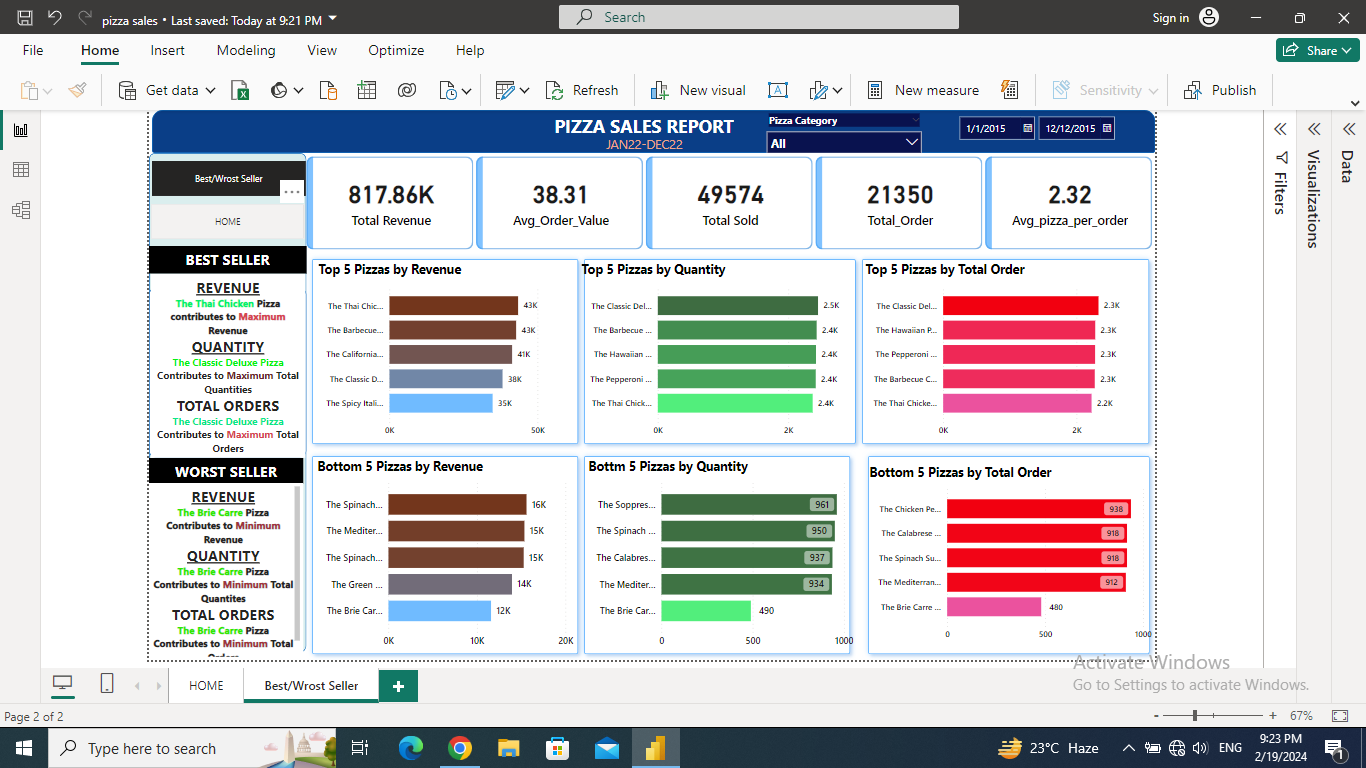

The page's visual inventory and layout, read from the dashboard file:
{"tool":"powerbi","page":{"name":"Best/Wrost Seller","canvas":[1500,820],"ordinal":1},"visuals":[{"type":"shape","box":[0,64,234.5,744.6],"z":0},{"type":"textbox","box":[0,518.2,229.6,37.7],"z":1000},{"type":"shape","box":[234.5,213.2,414.9,293.6],"z":2000},{"type":"cardVisual","fields":{"Data":["pizza_sales.Total Revenue","pizza_sales.Avg_Order_Value","pizza_sales.Total Sold","pizza_sales.Total_Order","pizza_sales.Avg_pizza_per_order"]},"box":[229,64,1271,149.2],"z":3000},{"type":"shape","box":[4.9,0,1495.7,64],"z":4000},{"type":"textbox","box":[582.2,0,310,50.8],"z":5000},{"type":"textbox","box":[649.4,32.8,177.1,42.6],"z":6000},{"type":"textbox","box":[0,203.4,234.5,41],"z":7000},{"type":"shape","box":[0,265.7,234.5,252.6],"z":8000},{"type":"textbox","box":[3.3,244.4,229.6,273.9],"z":9000},{"type":"textbox","box":[0,556,229.6,264],"z":10000},{"type":"slicer","fields":{"Values":["pizza_sales.pizza_category"]},"box":[910.2,0,250.9,64],"z":11000},{"type":"slicer","fields":{"Values":["pizza_sales.order_date"]},"box":[1195.6,0,262.4,64],"z":12000},{"type":"shape","box":[639.6,213.2,423.1,293.6],"z":13000},{"type":"shape","box":[1054.5,213.2,446.1,293.6],"z":14000},{"type":"shape","box":[639.6,506.8,414.9,313.2],"z":15000},{"type":"shape","box":[234.5,506.8,414.9,313.2],"z":16000},{"type":"shape","box":[1062.7,506.8,437.9,313.2],"z":17000},{"type":"barChart","title":"Top 5 Pizzas by Revenue","fields":{"Category":["pizza_sales.pizza_name"],"Y":["pizza_sales.Total Revenue"]},"box":[247.6,224.7,392,270.6],"z":18000},{"type":"barChart","title":"Bottom 5 Pizzas by Revenue","fields":{"Category":["pizza_sales.pizza_name"],"Y":["pizza_sales.Total Revenue"]},"box":[246,518.2,392,290.3],"z":19000},{"type":"barChart","title":"Top 5 Pizzas by Quantity","fields":{"Category":["pizza_sales.pizza_name"],"Y":["pizza_sales.Total Sold"]},"box":[639.6,224.7,423.1,270.6],"z":20000},{"type":"barChart","title":"Bottm 5 Pizzas by Quantity","fields":{"Category":["pizza_sales.pizza_name"],"Y":["pizza_sales.Total Sold"]},"box":[649.4,518.2,405.1,290.3],"z":21000},{"type":"barChart","title":"Top 5 Pizzas by Total Order","fields":{"Category":["pizza_sales.pizza_name"],"Y":["pizza_sales.Total_Order"]},"box":[1062.7,224.7,431.3,270.6],"z":22000},{"type":"barChart","title":"Bottom 5 Pizzas by Total Order","fields":{"Category":["pizza_sales.pizza_name"],"Y":["pizza_sales.Total_Order"]},"box":[1068.9,527.6,431.1,271.7],"z":22001},{"type":"pageNavigator","box":[4.9,75.4,229.6,52.5],"z":22002},{"type":"pageNavigator","box":[3.3,139.4,229.6,52.5],"z":22003}]}

Visuals, with their boxes on the page's 1500x820 design canvas (x1, y1, x2, y2). These are canvas units, not pixel positions in the 1366x768 screenshot, which may show the page scaled, cropped or inside an application window:
shape: detection(0, 64, 234, 809)
textbox: detection(0, 518, 230, 556)
shape: detection(234, 213, 649, 507)
cardVisual - pizza_sales.Total Revenue x pizza_sales.Avg_Order_Value: detection(229, 64, 1500, 213)
shape: detection(5, 0, 1501, 64)
textbox: detection(582, 0, 892, 51)
textbox: detection(649, 33, 826, 75)
textbox: detection(0, 203, 234, 244)
shape: detection(0, 266, 234, 518)
textbox: detection(3, 244, 233, 518)
textbox: detection(0, 556, 230, 820)
slicer - pizza_sales.pizza_category: detection(910, 0, 1161, 64)
slicer - pizza_sales.order_date: detection(1196, 0, 1458, 64)
shape: detection(640, 213, 1063, 507)
shape: detection(1054, 213, 1501, 507)
shape: detection(640, 507, 1054, 820)
shape: detection(234, 507, 649, 820)
shape: detection(1063, 507, 1501, 820)
"Top 5 Pizzas by Revenue" barChart: detection(248, 225, 640, 495)
"Bottom 5 Pizzas by Revenue" barChart: detection(246, 518, 638, 808)
"Top 5 Pizzas by Quantity" barChart: detection(640, 225, 1063, 495)
"Bottm 5 Pizzas by Quantity" barChart: detection(649, 518, 1054, 808)
"Top 5 Pizzas by Total Order" barChart: detection(1063, 225, 1494, 495)
"Bottom 5 Pizzas by Total Order" barChart: detection(1069, 528, 1500, 799)
pageNavigator: detection(5, 75, 234, 128)
pageNavigator: detection(3, 139, 233, 192)
